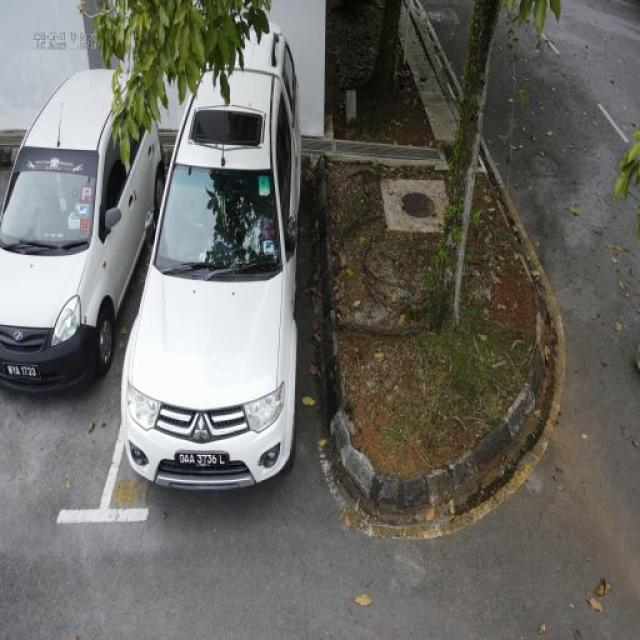Legalparking: (0, 36, 347, 544)
